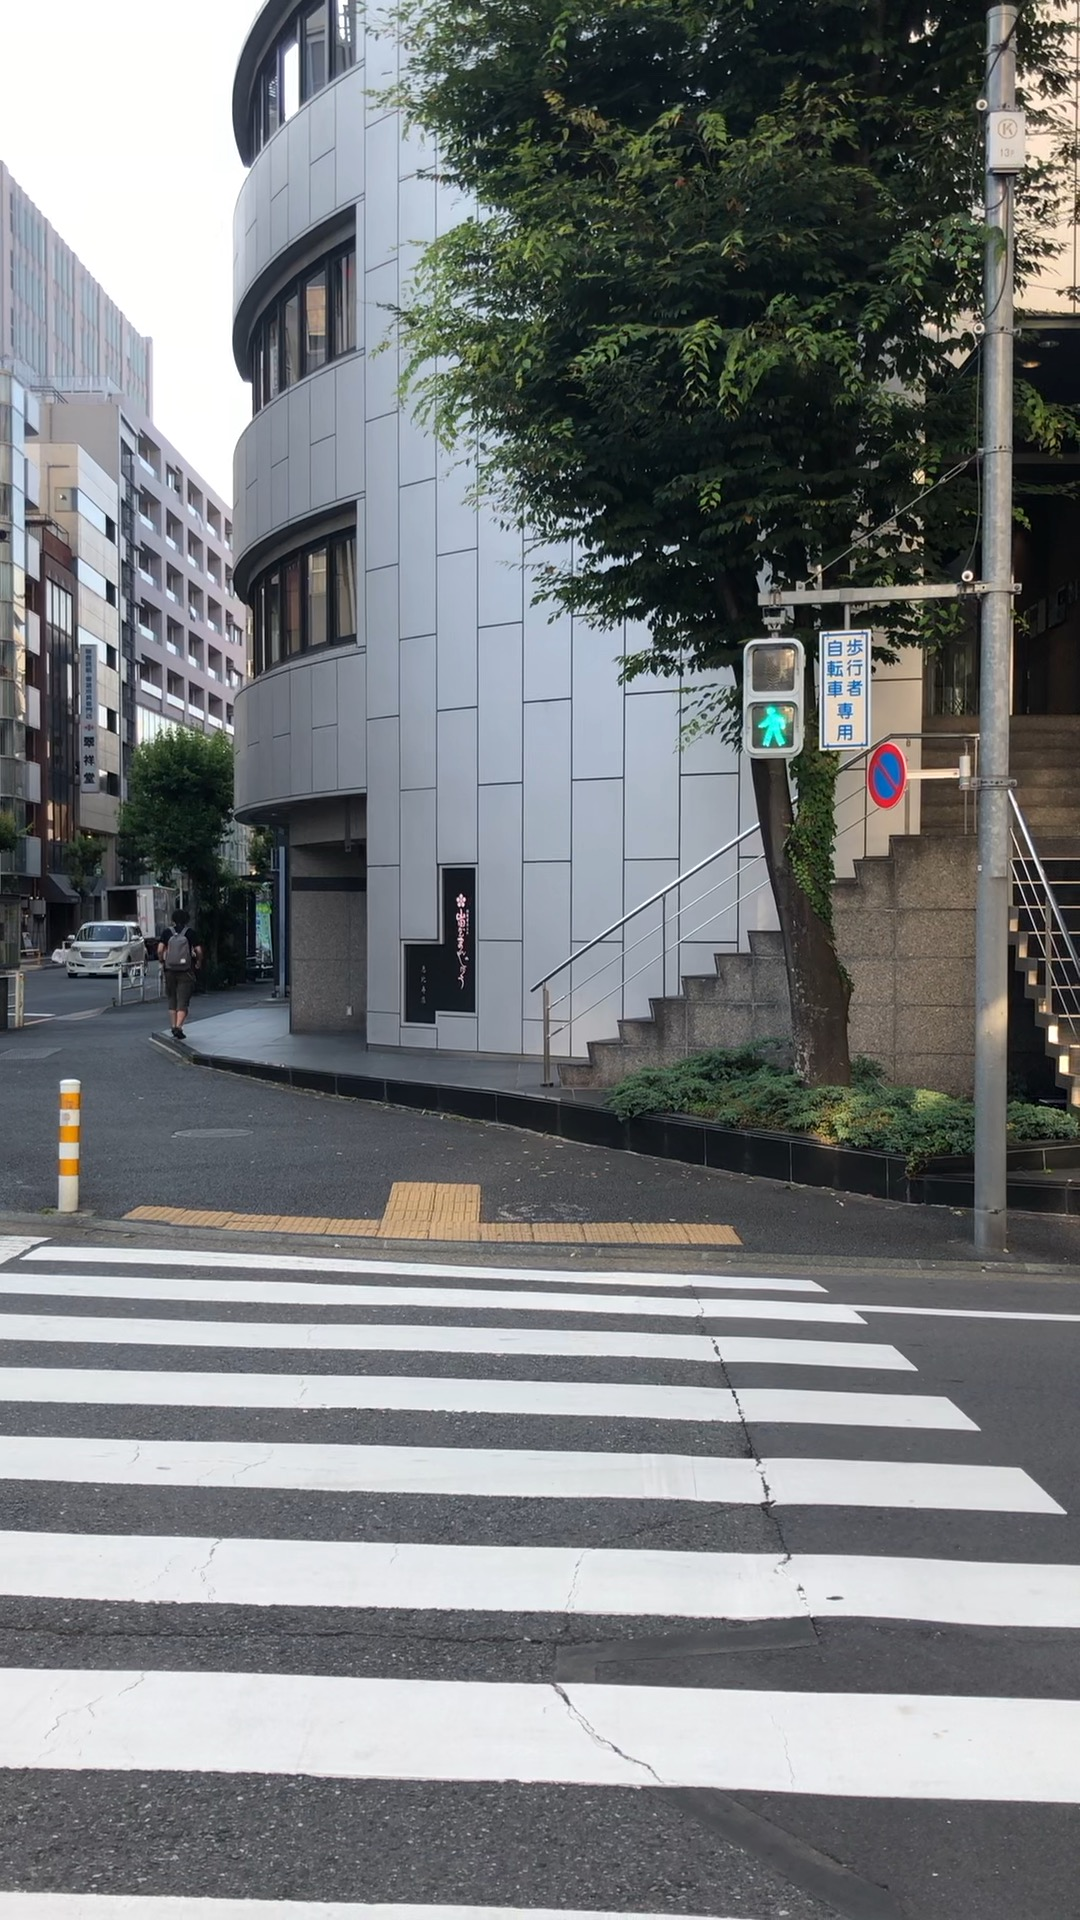green: (740, 636, 807, 758)
